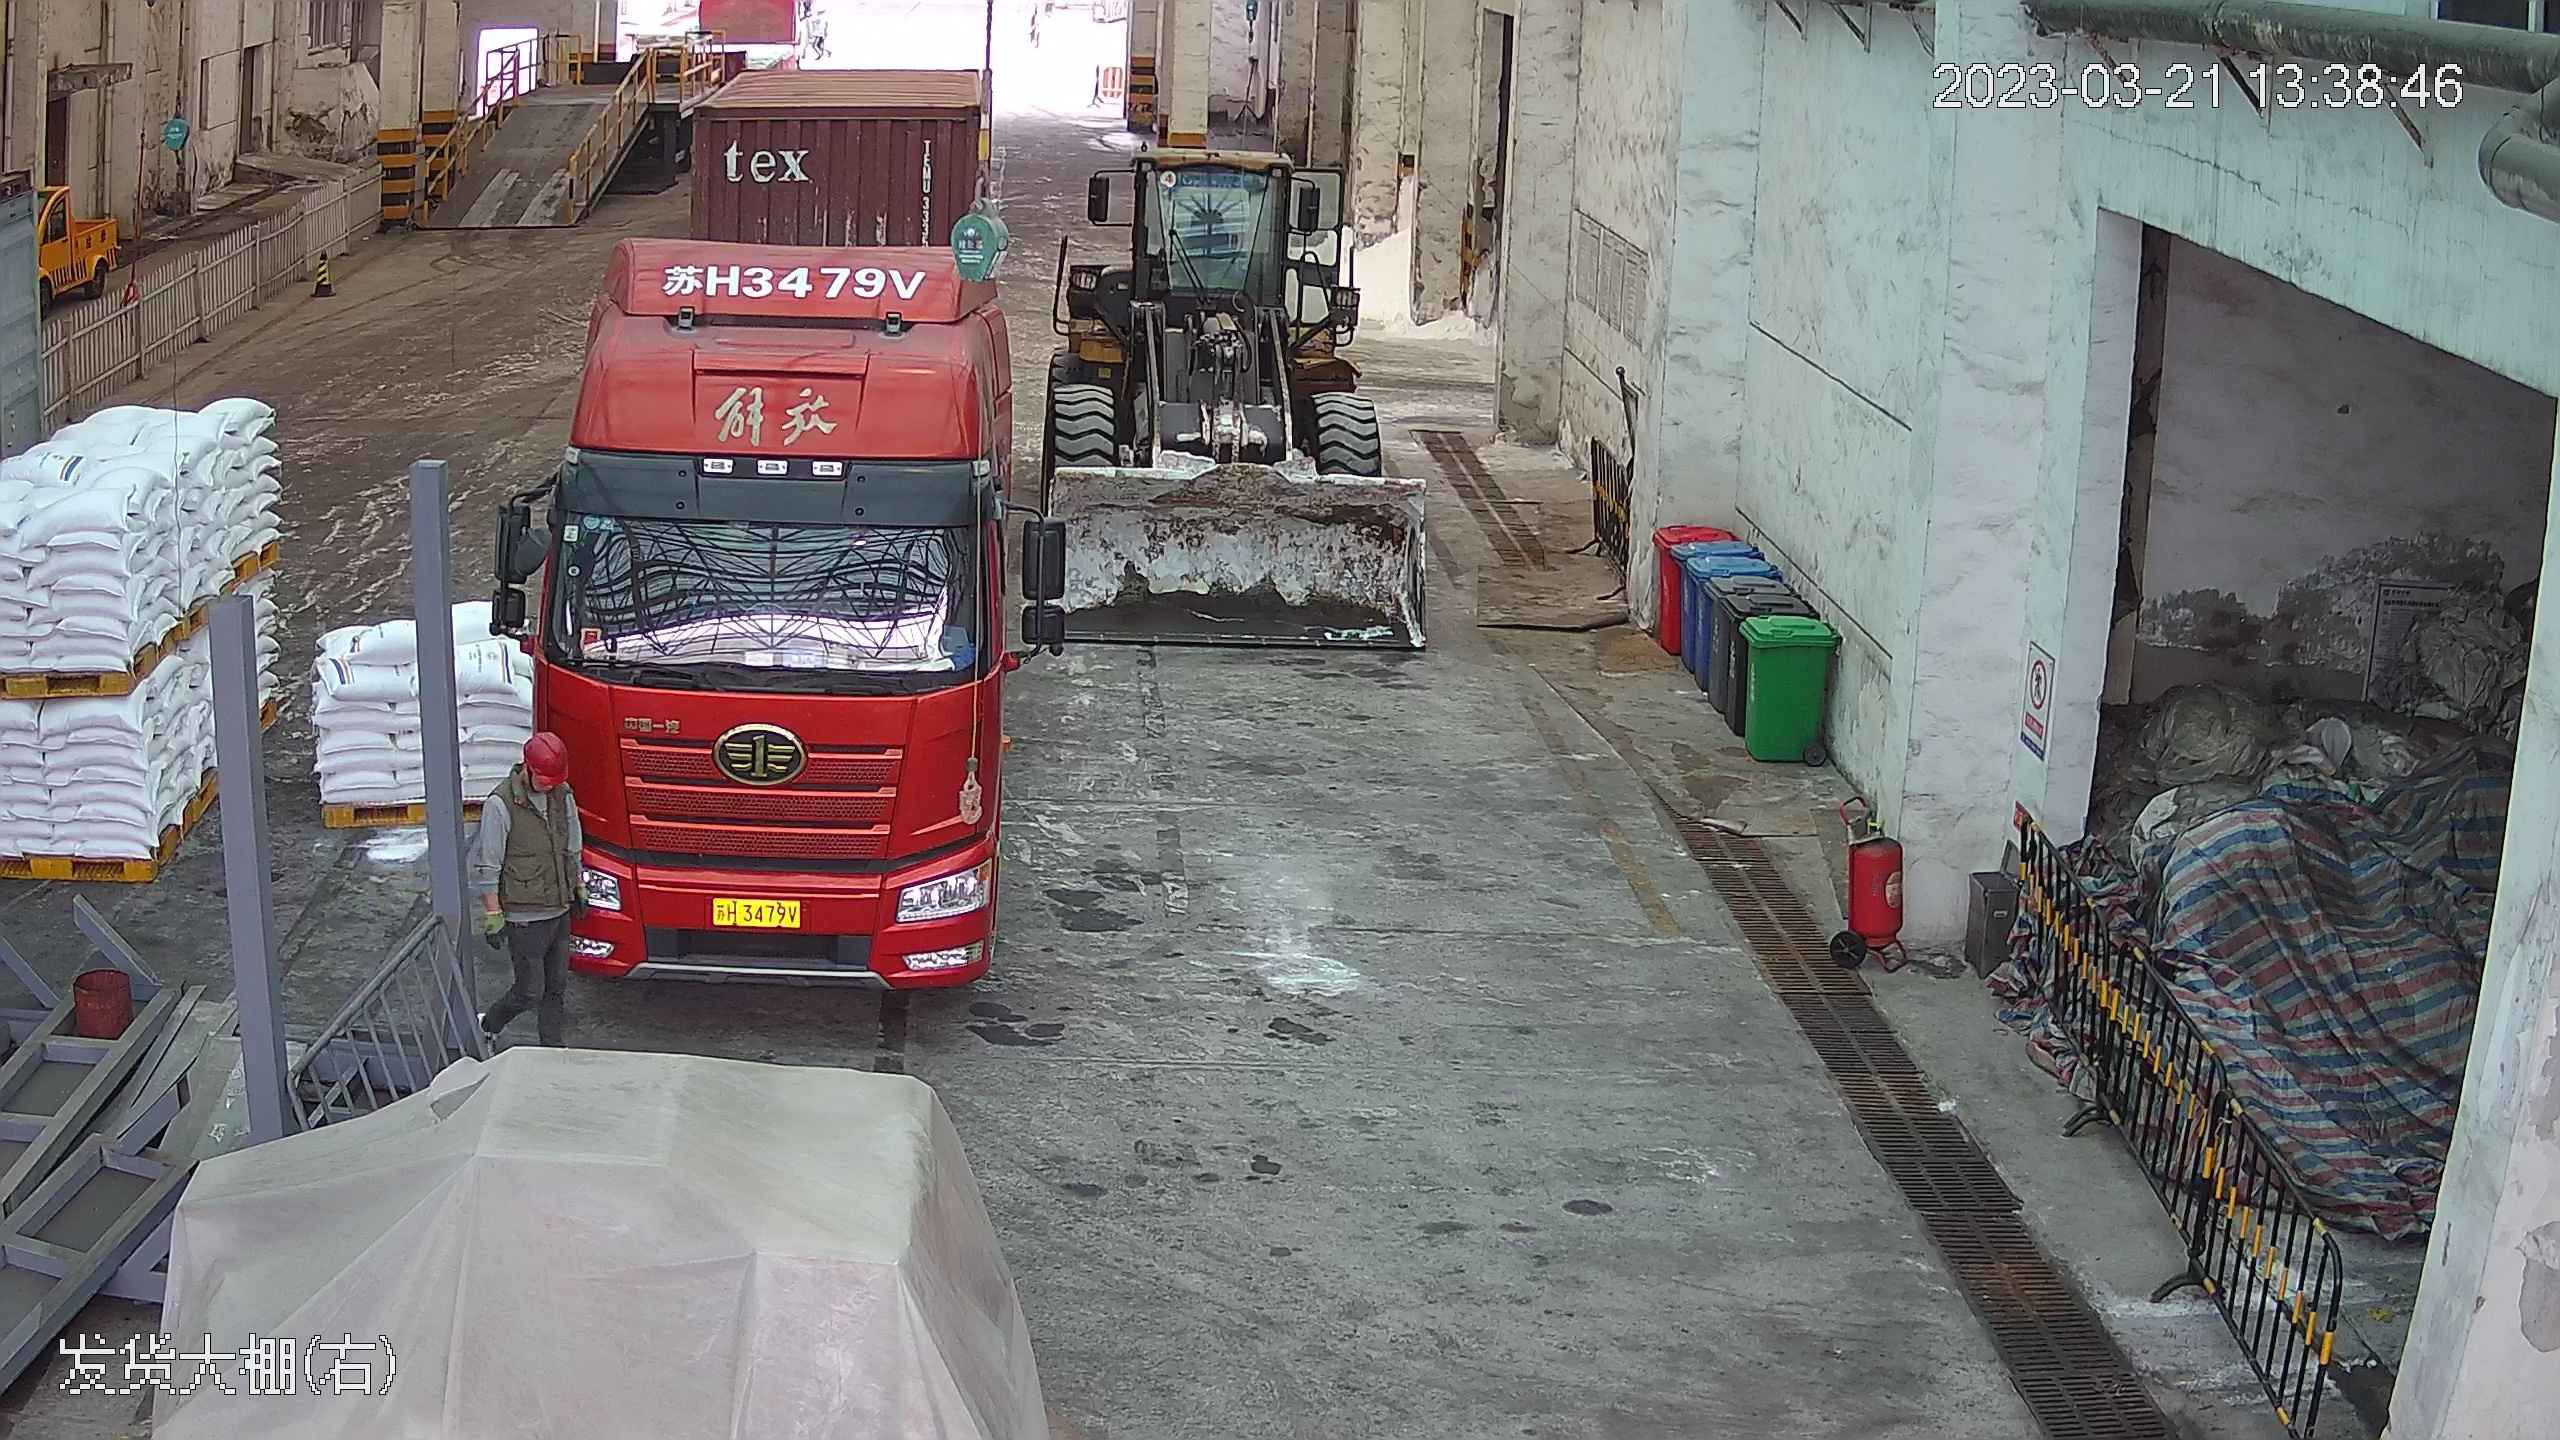head: (503, 736, 581, 839)
helmet: (523, 732, 571, 774)
people: (482, 735, 588, 1044)
truck: (508, 18, 1040, 991)
